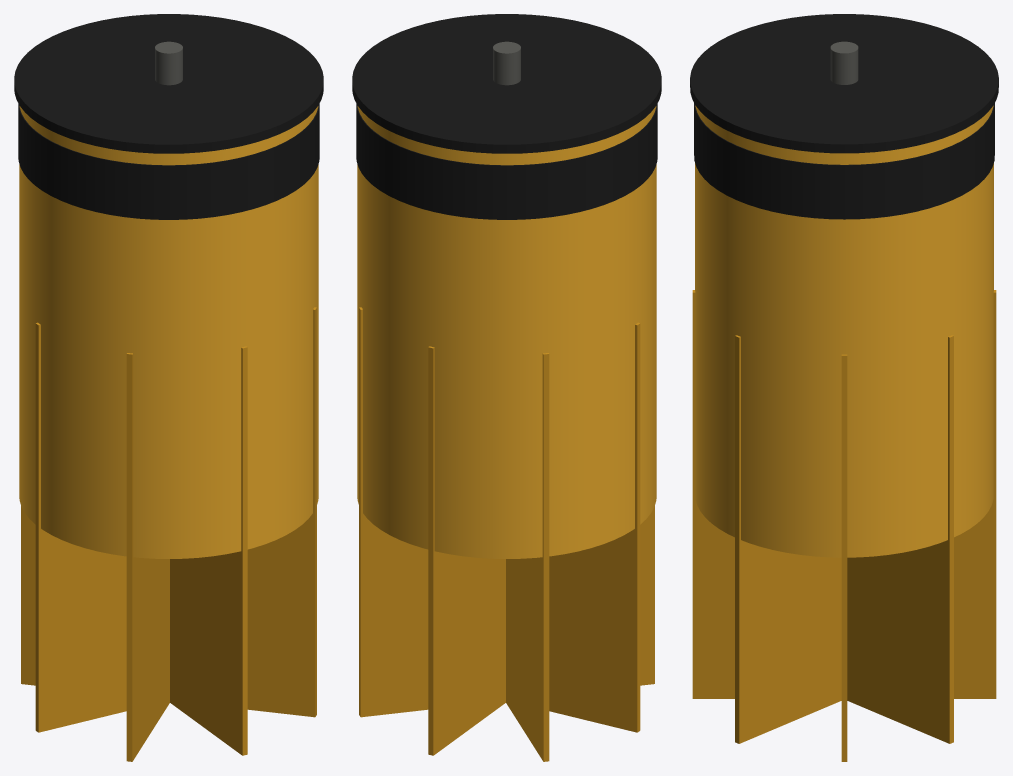
Rendered from a02-buoy-turn-cylinder.glb.
3 views of the same model, side by side, from view 1: azimuth 30°, elevation 25°; view 2: azimuth 150°, elevation 25°; view 3: azimuth 270°, elevation 25° (orthographic).
Parts seen in each view (by area): view 1: part0, part1, part3, part2, part4; view 2: part0, part1, part3, part2, part4; view 3: part0, part1, part3, part2, part4.
Boxes of the visible parts, x1=… form: part0: x1=19, y1=106, x2=318, y2=558; part1: x1=21, y1=307, x2=316, y2=761; part3: x1=14, y1=14, x2=323, y2=153; part2: x1=18, y1=103, x2=319, y2=219; part4: x1=155, y1=41, x2=182, y2=85; part0: x1=357, y1=106, x2=656, y2=558; part1: x1=359, y1=307, x2=654, y2=761; part3: x1=352, y1=14, x2=661, y2=153; part2: x1=356, y1=103, x2=657, y2=219; part4: x1=493, y1=41, x2=520, y2=85; part0: x1=695, y1=105, x2=993, y2=557; part1: x1=692, y1=290, x2=996, y2=761; part3: x1=690, y1=14, x2=998, y2=153; part2: x1=694, y1=103, x2=994, y2=219; part4: x1=830, y1=41, x2=858, y2=84.
Size of the model in its own units: 620 by 1440 by 620.
